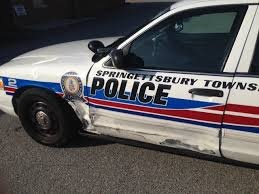Dent: (68, 90, 97, 133)
Scratch: (101, 126, 218, 155)
